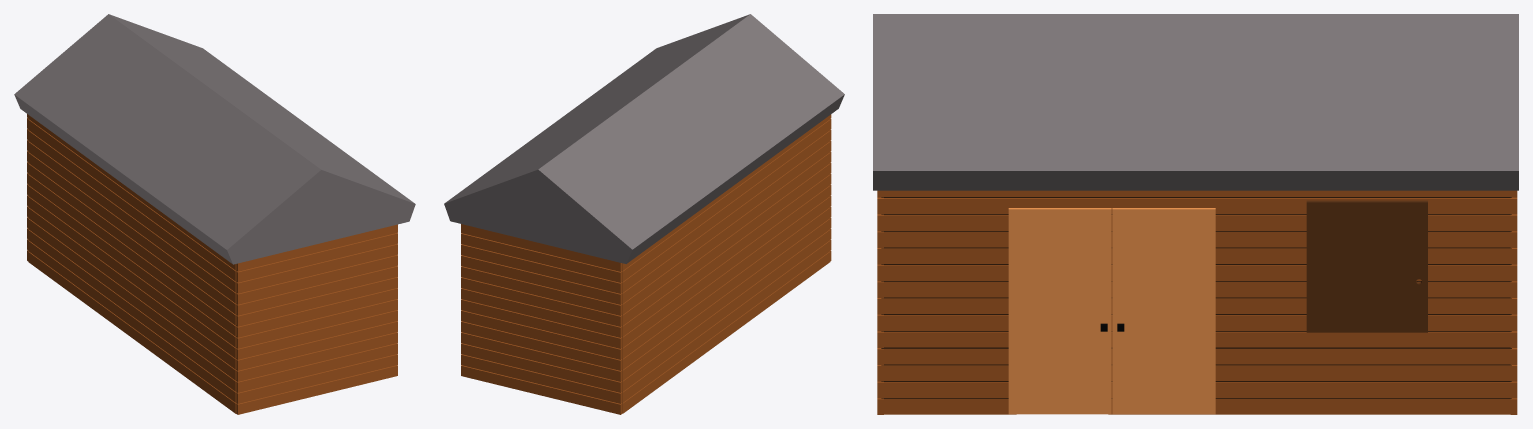
The model's file is GranjaExterior2.fbx.
3 renders of one model, left to right at view 1: azimuth 30°, elevation 25°; view 2: azimuth 150°, elevation 25°; view 3: azimuth 270°, elevation 25°, orthographic. The views are drawn at different scales.
Visible parts, largest first — view 1: Cylinder, Cube.005, Cube.007; view 2: Cylinder, Cube.005, Cube.008; view 3: Cylinder, Cube.006, Cube.018, Cube.017, Cube.019, Cube, Cube.008, Cube.007.
Part boxes in pixels (<box>): Cylinder: <box>14,14,415,264</box>; Cube.005: <box>28,115,236,413</box>; Cube.007: <box>236,224,397,414</box>; Cylinder: <box>444,14,844,263</box>; Cube.005: <box>622,115,830,413</box>; Cube.008: <box>461,224,622,414</box>; Cylinder: <box>873,14,1518,190</box>; Cube.006: <box>882,190,1510,414</box>; Cube.018: <box>1112,208,1215,414</box>; Cube.017: <box>1008,208,1111,414</box>; Cube.019: <box>1306,200,1427,332</box>; Cube: <box>881,197,1511,398</box>; Cube.008: <box>1510,190,1517,414</box>; Cube.007: <box>877,190,883,414</box>.
Bounding box in the file's own units: 238 × 273 × 465.
